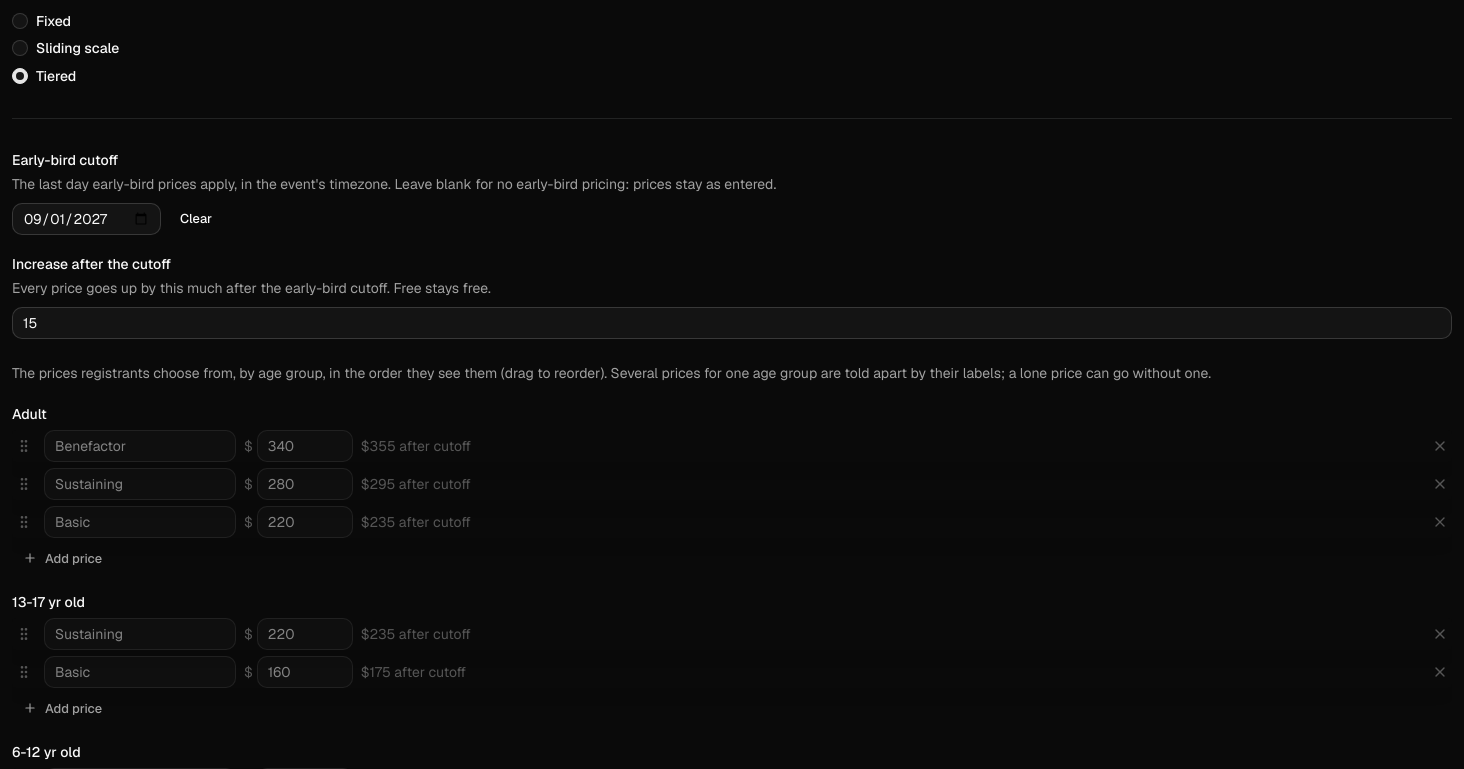
Test case: AdmissionsForm › tiered › early-bird cutoff › clears with its Clear button, even from a half-typed date
Clear the date field with id "admissions-earlybird-cutoff" at point(86, 219), box [12,203,161,235]
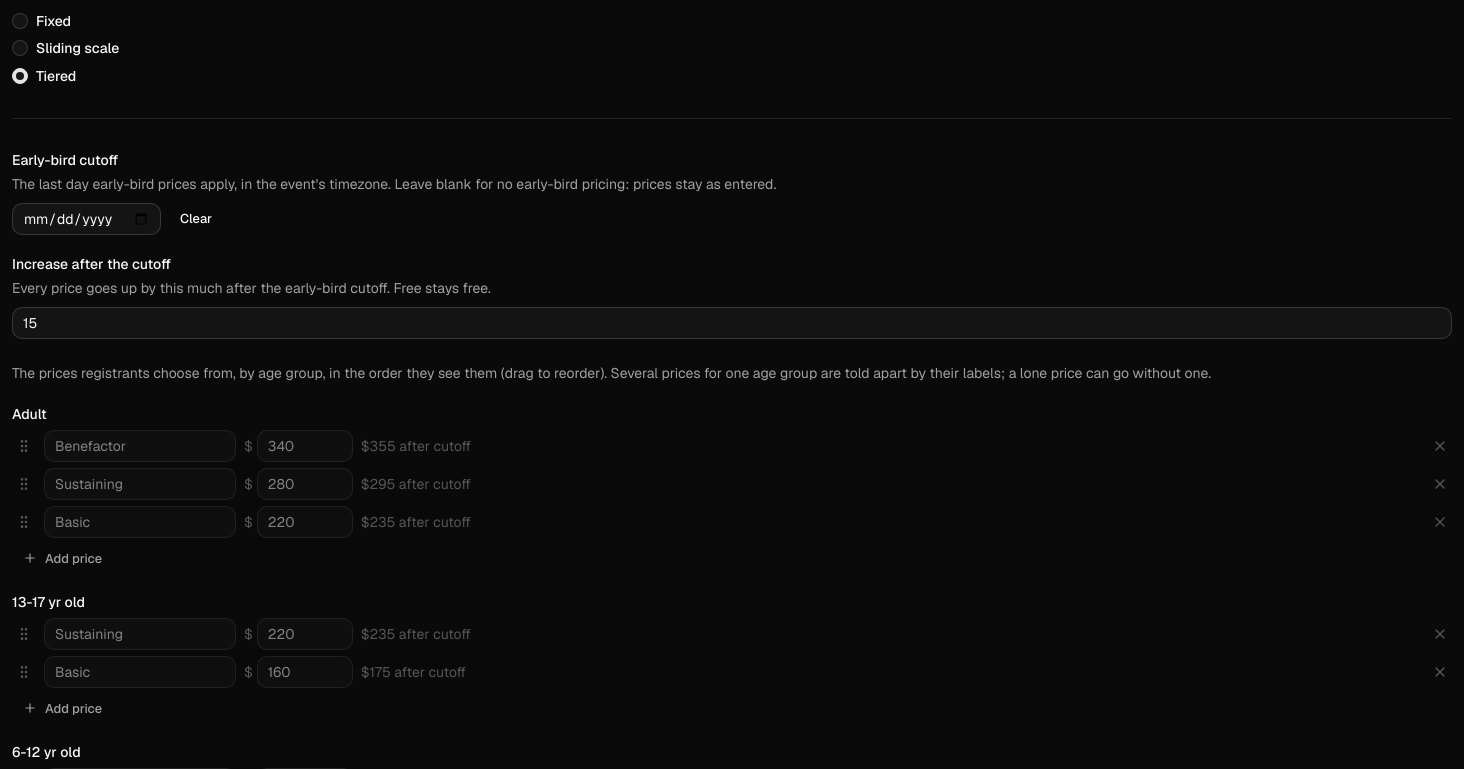
Leave the date field with id "admissions-earlybird-cutoff", box [12,203,161,235]
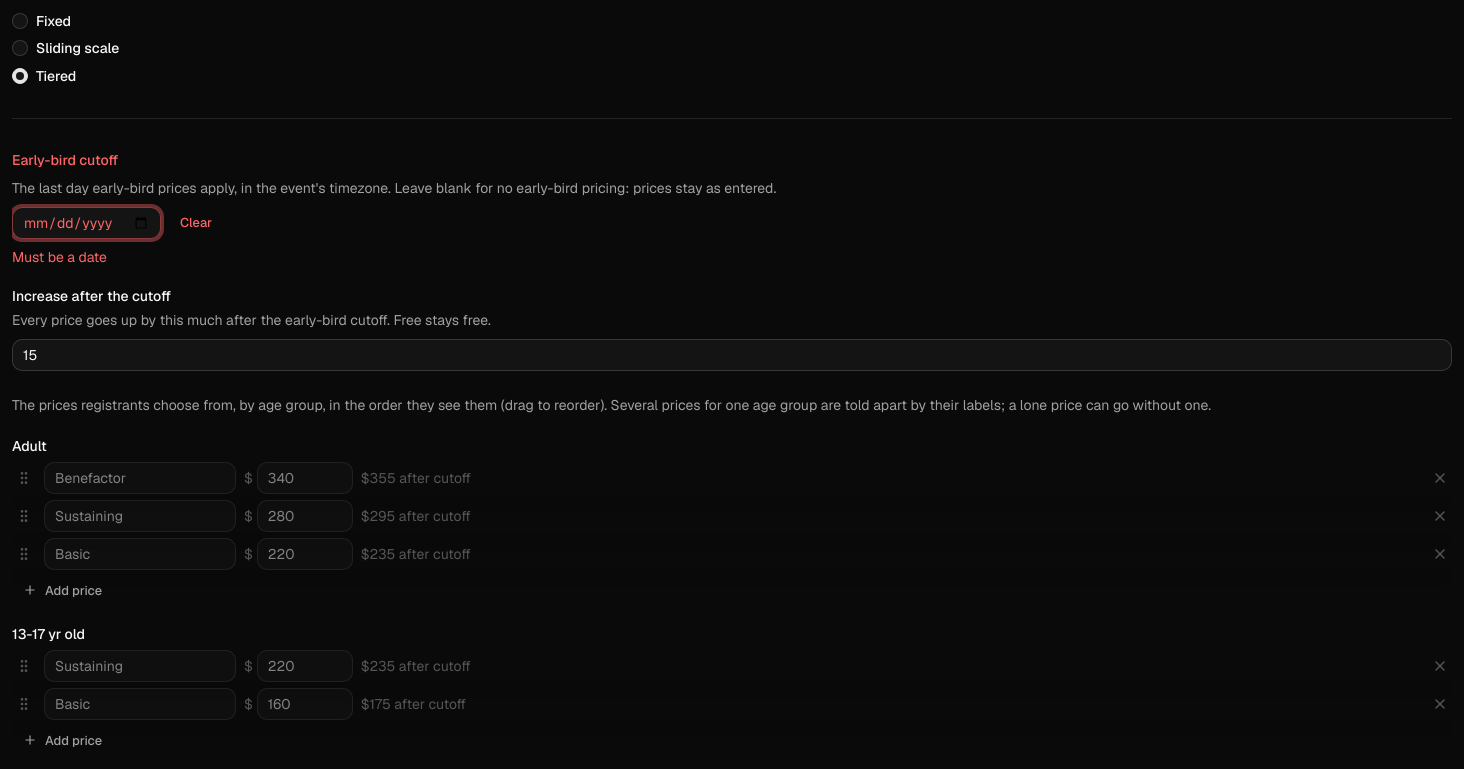
Expected: the text "Must be a date" is shown, [12,248,107,266]
Click the button with aria-label "Clear Early-bird cutoff" at point(196, 223), box [169,209,223,237]
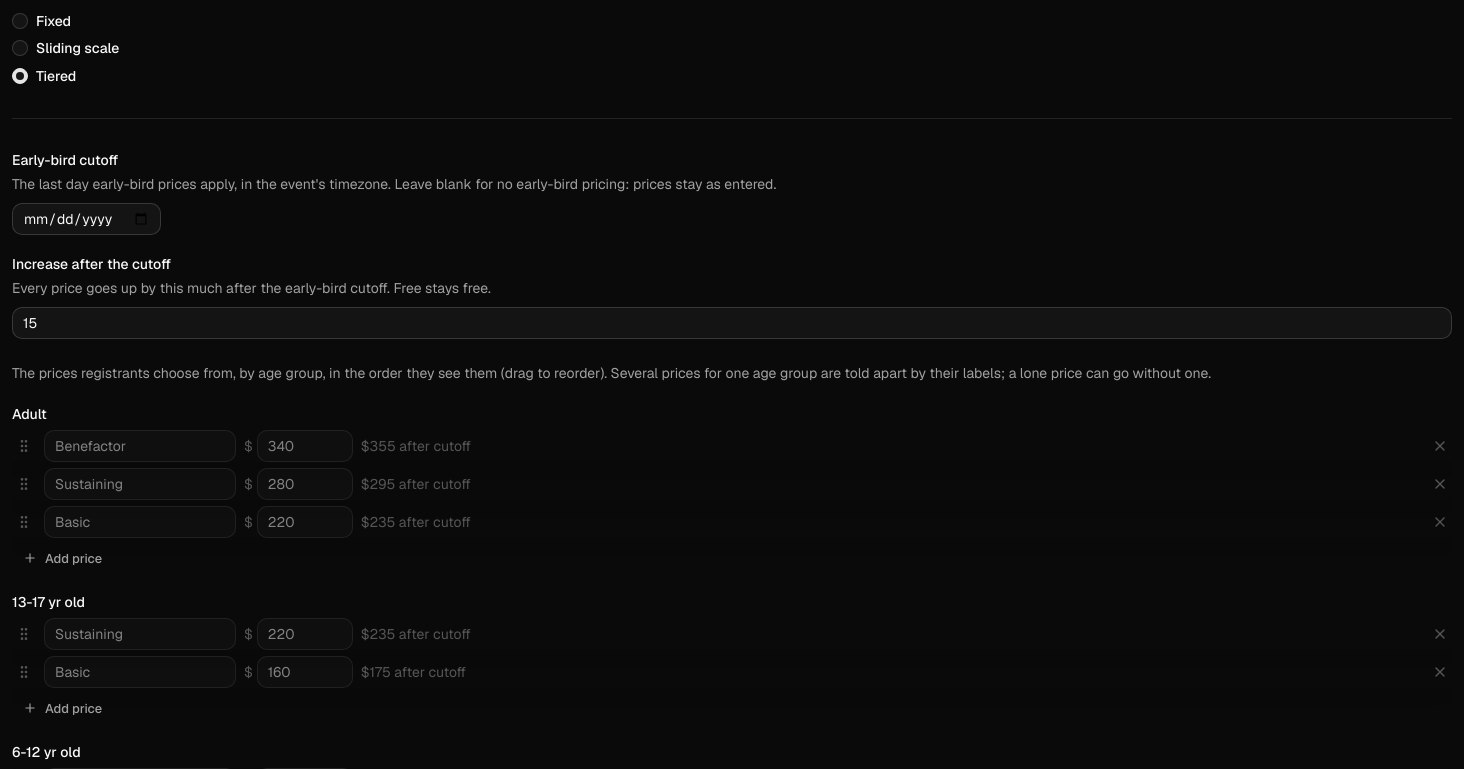
Expected: the text "Must be a date" is gone
